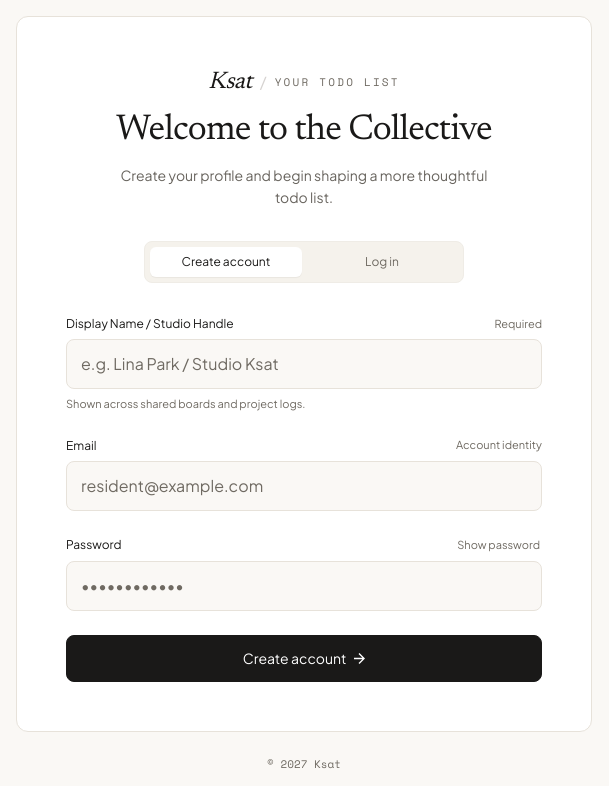
Test case: AuthScreen › maps an auth failure to a safe, mode-specific message
Click the radio button labelled "Log in" at coordinates (382, 262), box left=306, top=247, right=458, bottom=277
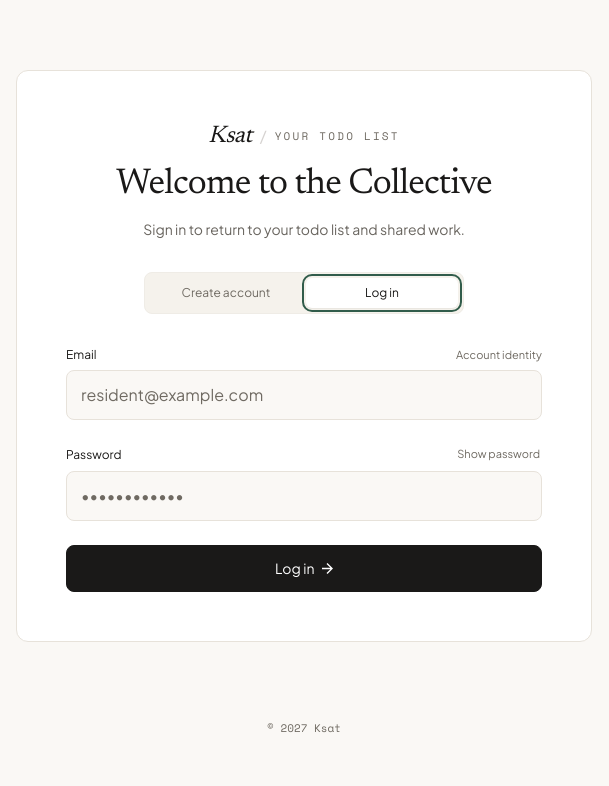
Type "ada@example.test" into the field labelled "Email" at coordinates (304, 395), box left=66, top=370, right=542, bottom=420
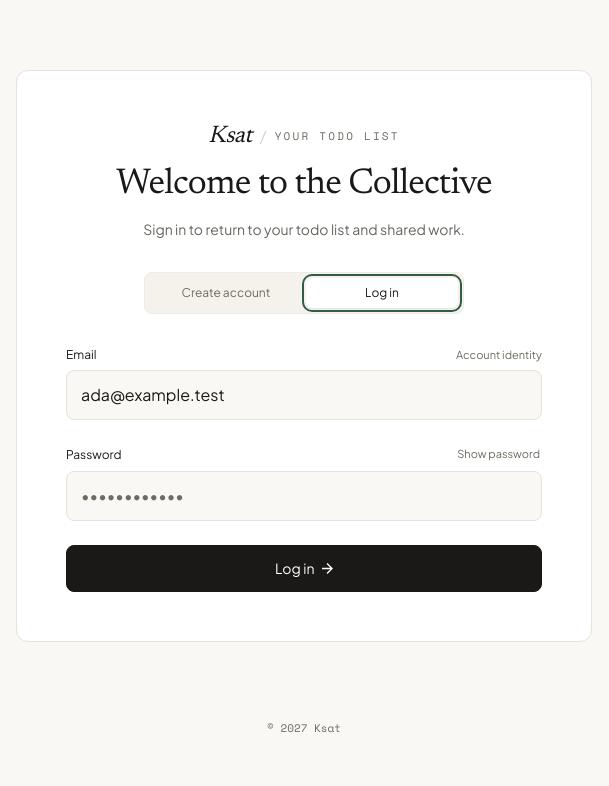
Type "a secure password" into the password field labelled "Password" at coordinates (304, 496), box left=66, top=471, right=542, bottom=521
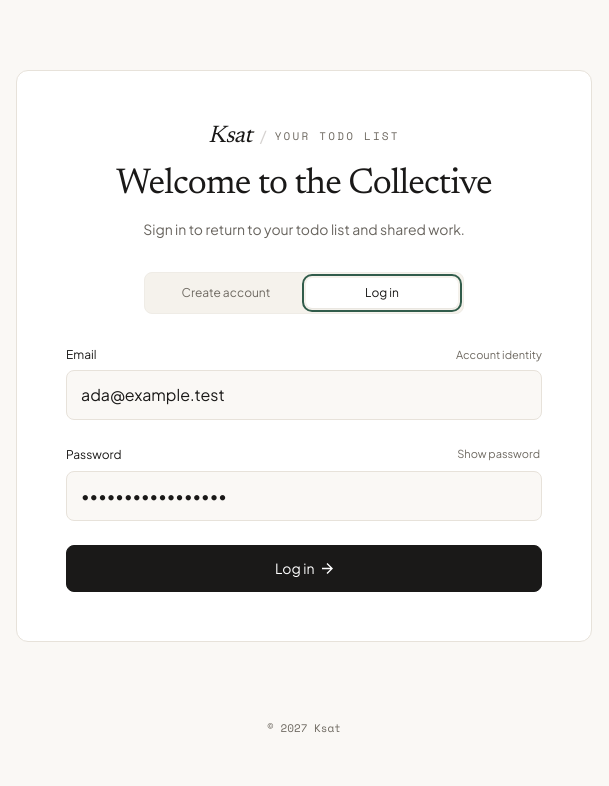
Click the button "Log in" at coordinates (304, 568), box left=66, top=545, right=542, bottom=592
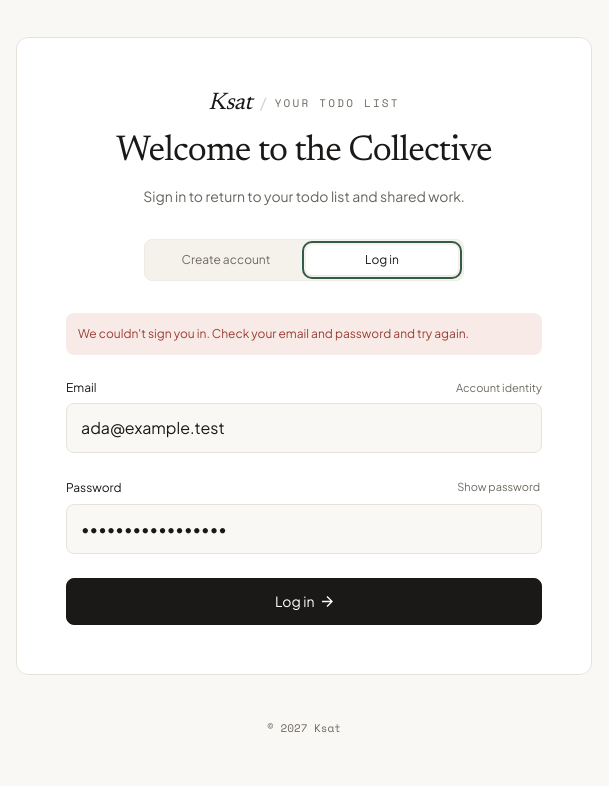
Expected: the message shows "We couldn't sign you in.", left=78, top=326, right=469, bottom=341
